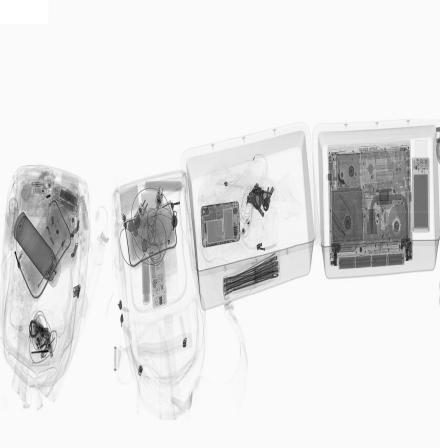Powerbank: (412, 158, 430, 233)
